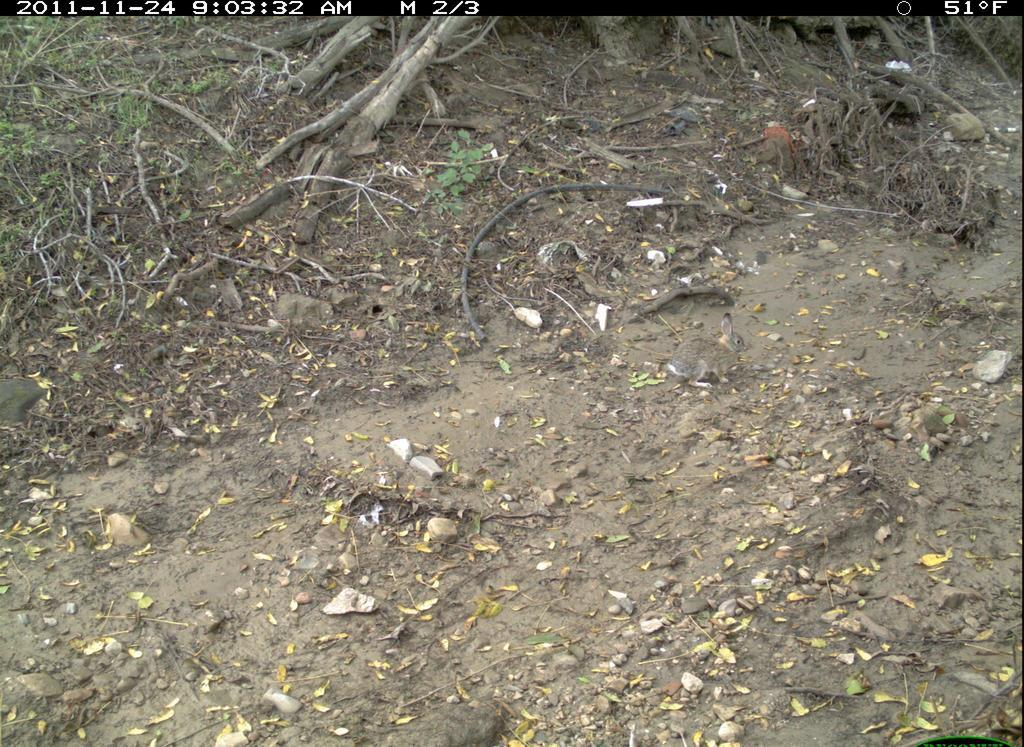rabbit: (656, 310, 762, 400)
